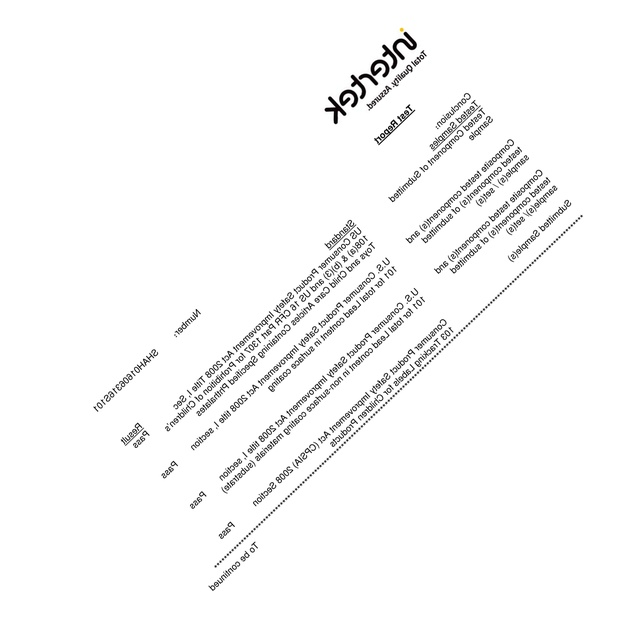intertek: (319, 22, 420, 126)
